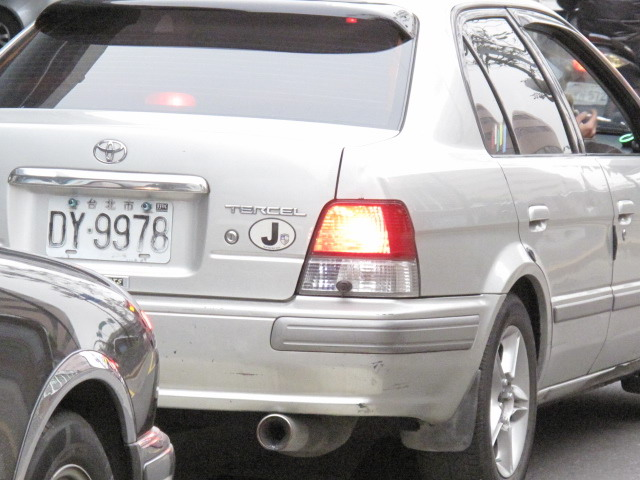plate: (44, 193, 177, 267)
